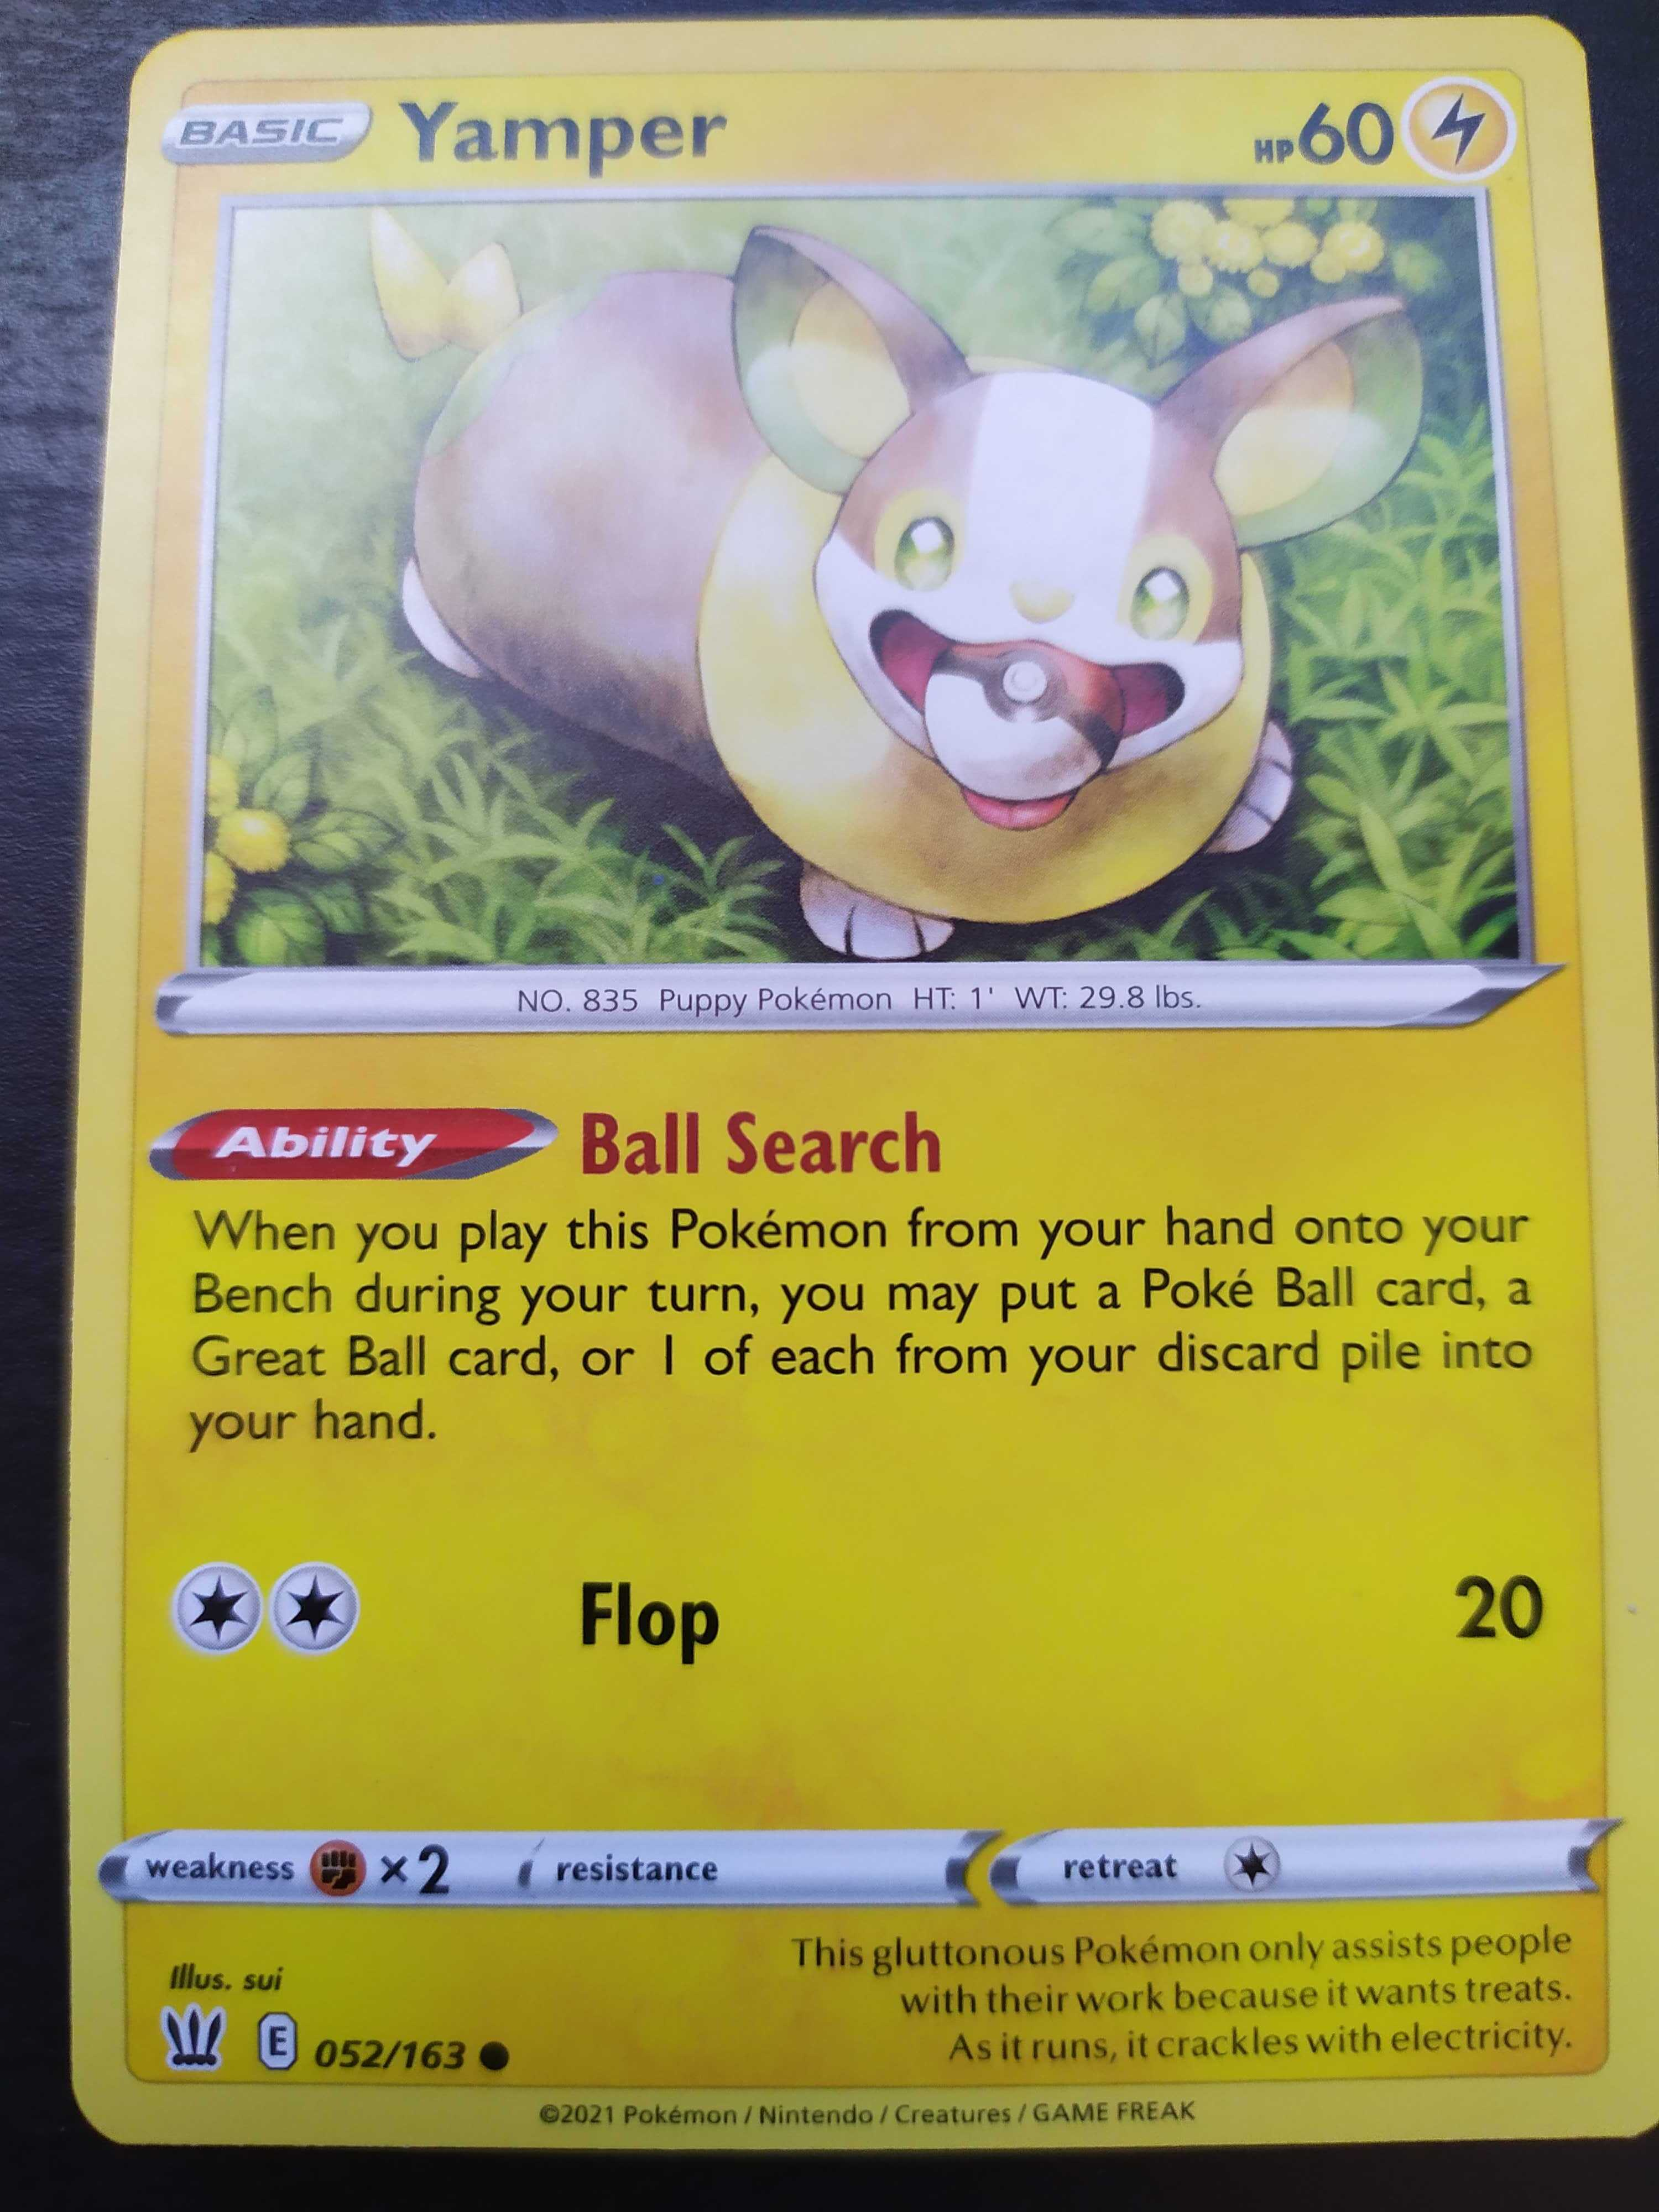collector_number: (312, 2033, 471, 2078)
full_card: (73, 19, 1659, 2146)
name: (396, 101, 727, 179)
set_icon: (159, 2000, 227, 2071)
